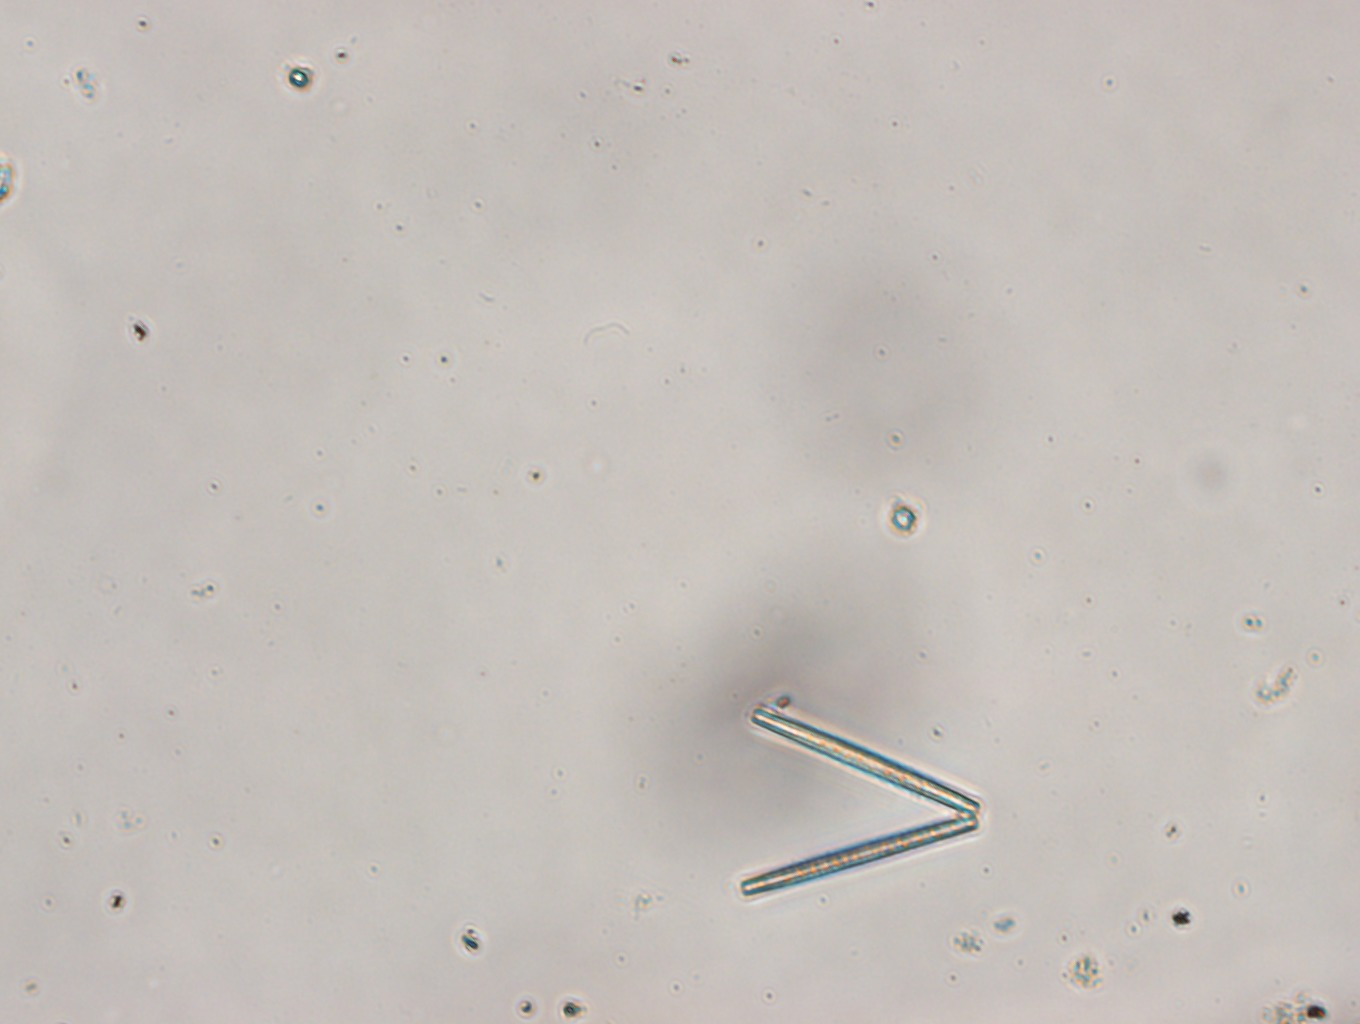thalassionema nitzschioides: (739, 706, 982, 896)
